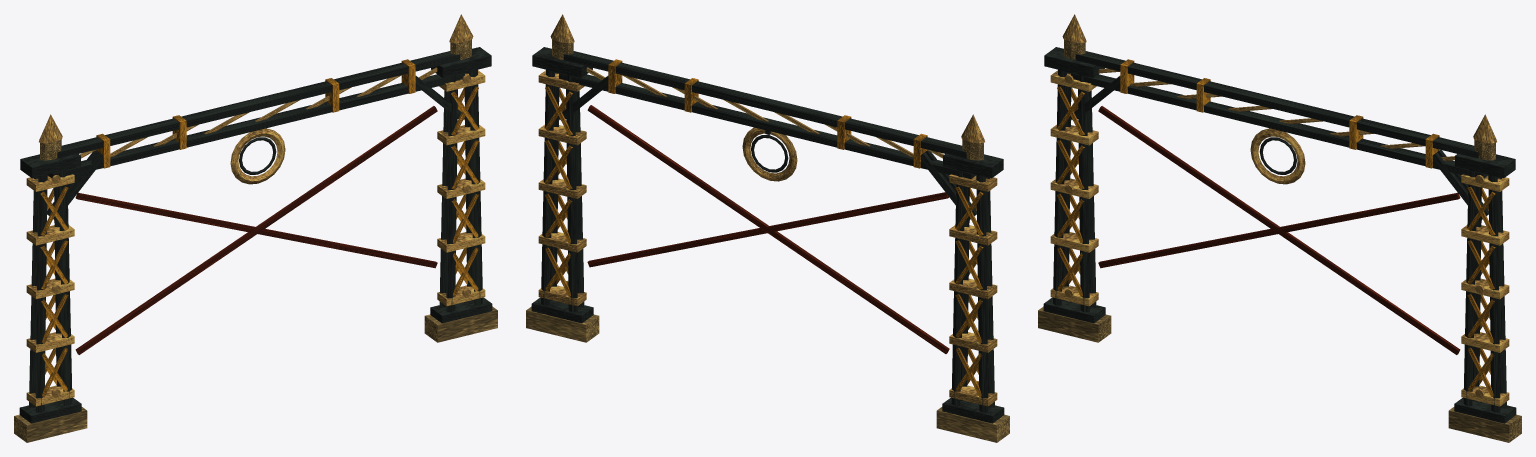
Rendered from iron-shadow-warning-frame.glb.
The picture shows the model from 3 angles, left to right: view 1: azimuth 30°, elevation 25°; view 2: azimuth 150°, elevation 25°; view 3: azimuth 330°, elevation 25°; orthographic projection.
Parts seen in each view (by area): view 1: iron-shadow-warning-frame; view 2: iron-shadow-warning-frame; view 3: iron-shadow-warning-frame.
Boxes of the visible parts, x1,y1,x2,y2 form: iron-shadow-warning-frame: (14,14,497,442); iron-shadow-warning-frame: (526,14,1009,442); iron-shadow-warning-frame: (1038,14,1521,442).
Bounding box in the file's own units: 7.64 × 4.91 × 0.36.
Materials: 1 (1 with a texture image).
